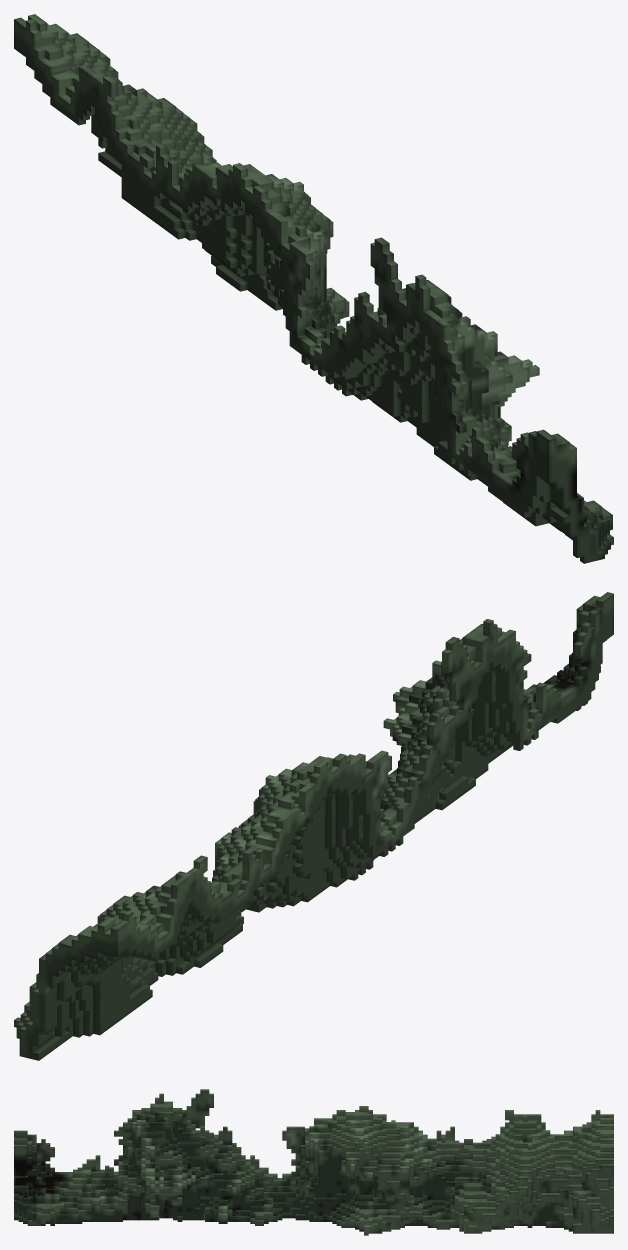
The model's file is treeline01-10-11r.fbx.
3 views of the same model, one above another, from view 1: azimuth 30°, elevation 25°; view 2: azimuth 150°, elevation 25°; view 3: azimuth 270°, elevation 25° (orthographic). The views are drawn at different scales.
Parts seen in each view (by area): view 1: treeline01-10-11r; view 2: treeline01-10-11r; view 3: treeline01-10-11r.
Part boxes in pixels (bbox=[...]): treeline01-10-11r: bbox=[14, 14, 613, 563]; treeline01-10-11r: bbox=[14, 592, 613, 1060]; treeline01-10-11r: bbox=[14, 1089, 613, 1235].
Size of the model in its own units: 17 by 28 by 132.
